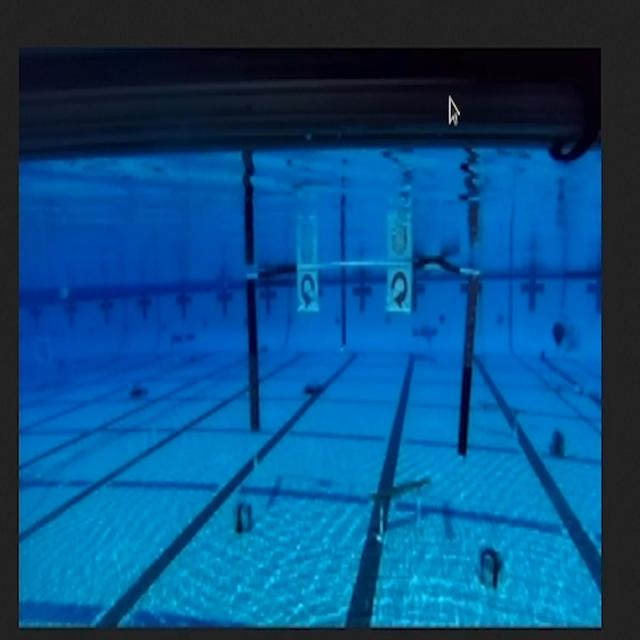Gate: (239, 254, 482, 455)
